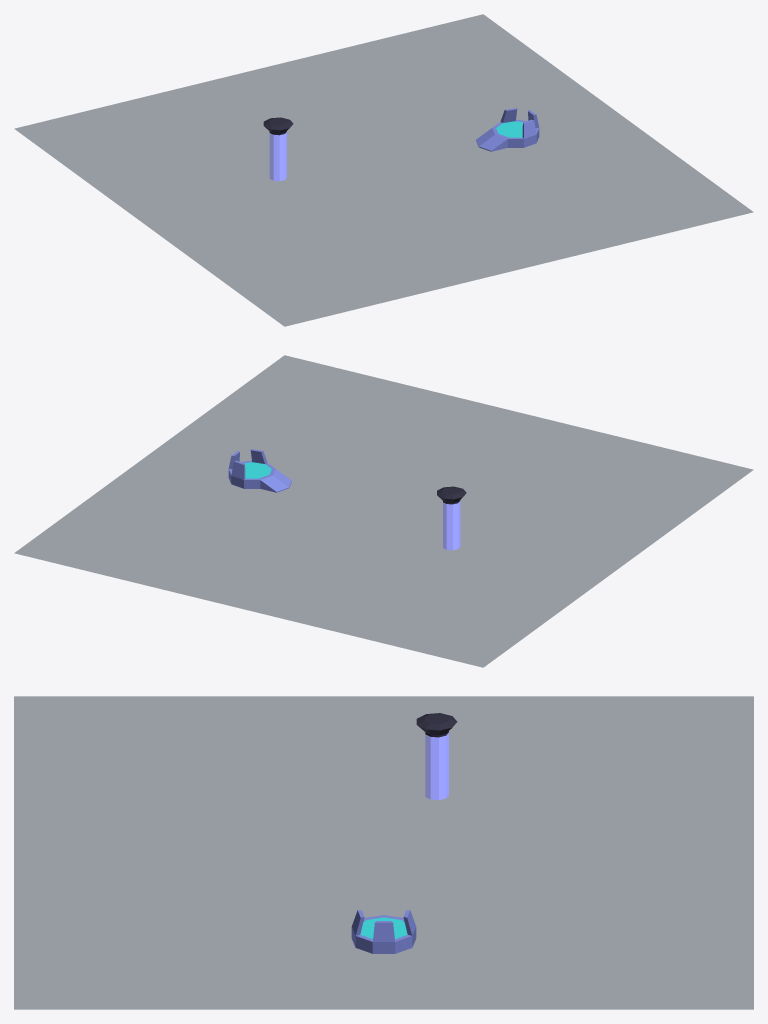
Rendered from liberte.glb.
3 renders of one model, top to bottom at view 1: azimuth 30°, elevation 25°; view 2: azimuth 150°, elevation 25°; view 3: azimuth 270°, elevation 25°, orthographic. The views are drawn at different scales.
Visible parts, largest first — view 1: Ground.002, Ground, Ground.003, Ground.001, VortexGate, VortexNode1; view 2: Ground.003, Ground.001, Ground.002, Ground, VortexGate, VortexNode1; view 3: Ground.002, Ground, Ground.001, Ground.003, VortexGate, VortexNode1.
Part boxes in pixels (<box>): Ground.002: <box>149,170,518,326</box>; Ground: <box>384,113,753,269</box>; Ground.003: <box>14,71,383,227</box>; Ground.001: <box>249,14,618,170</box>; VortexGate: <box>476,108,539,151</box>; VortexNode1: <box>263,117,293,181</box>; Ground.003: <box>249,511,618,667</box>; Ground.001: <box>14,454,383,610</box>; Ground.002: <box>384,412,753,568</box>; Ground: <box>149,355,518,511</box>; VortexGate: <box>228,449,291,492</box>; VortexNode1: <box>437,486,466,550</box>; Ground.002: <box>14,696,383,852</box>; Ground: <box>14,852,383,1009</box>; Ground.001: <box>384,852,753,1009</box>; Ground.003: <box>384,696,753,852</box>; VortexGate: <box>351,910,416,953</box>; VortexNode1: <box>416,713,457,800</box>.
Bounding box in the file's own units: 32.04 × 3.63 × 32.
